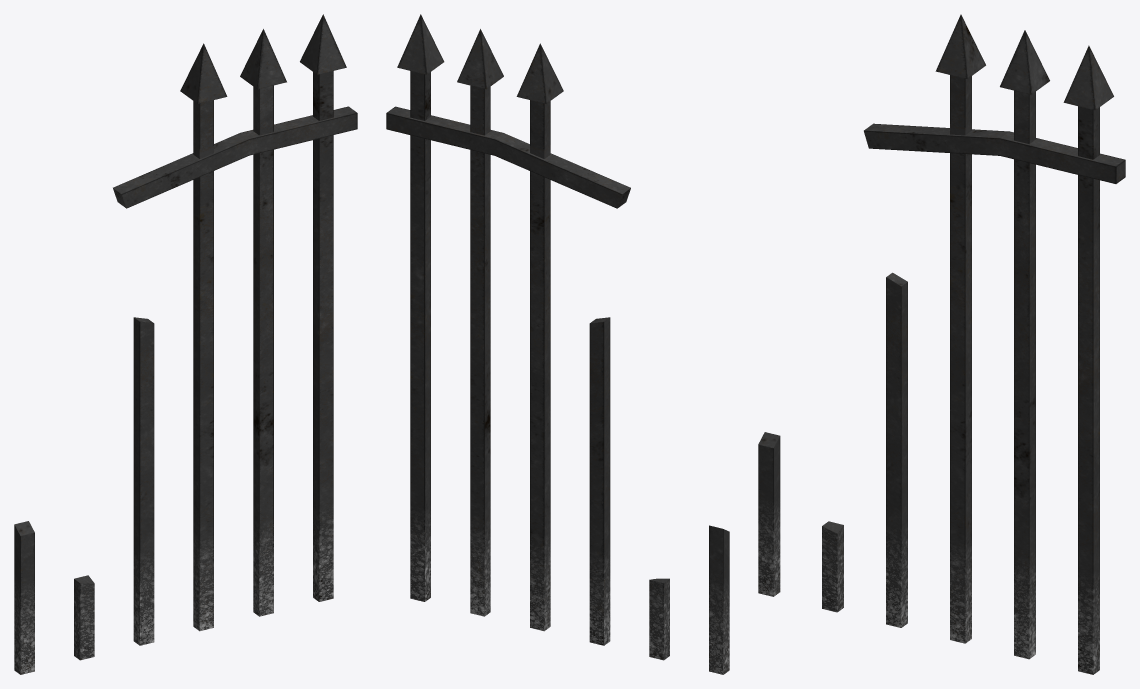
File: Fence3.fbx
3 renders of one model, left to right at view 1: azimuth 30°, elevation 25°; view 2: azimuth 150°, elevation 25°; view 3: azimuth 330°, elevation 25°, orthographic. The views are drawn at different scales.
Visible parts, largest first — view 1: Cube.032; view 2: Cube.032; view 3: Cube.032.
Boxes of the visible parts, x1,y1,x2,y2 form: Cube.032: (14,14,357,674); Cube.032: (386,14,729,674); Cube.032: (758,14,1125,674).
Bounding box in the file's own units: 562 × 934 × 51.18.
